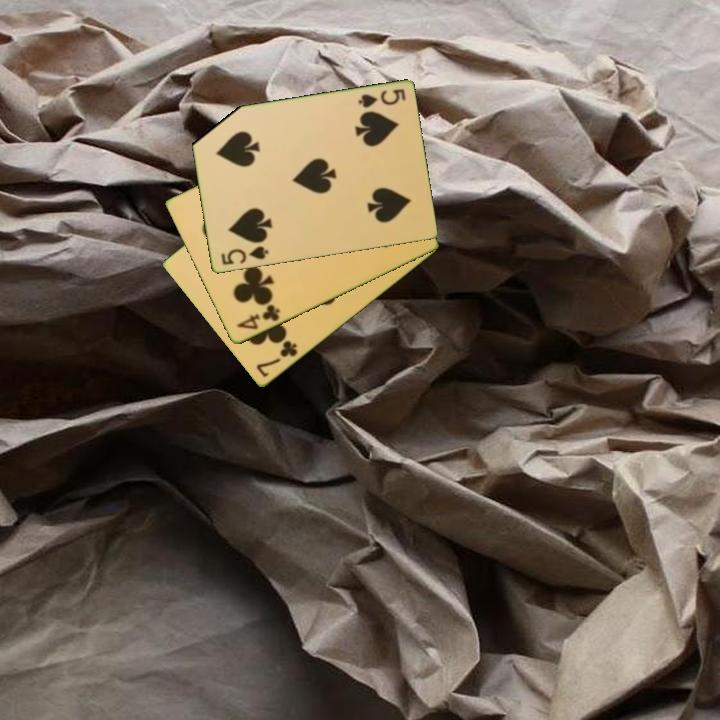4c: (233, 301, 283, 333)
5s: (217, 243, 271, 268), (354, 86, 408, 111)
7c: (252, 337, 300, 381)
